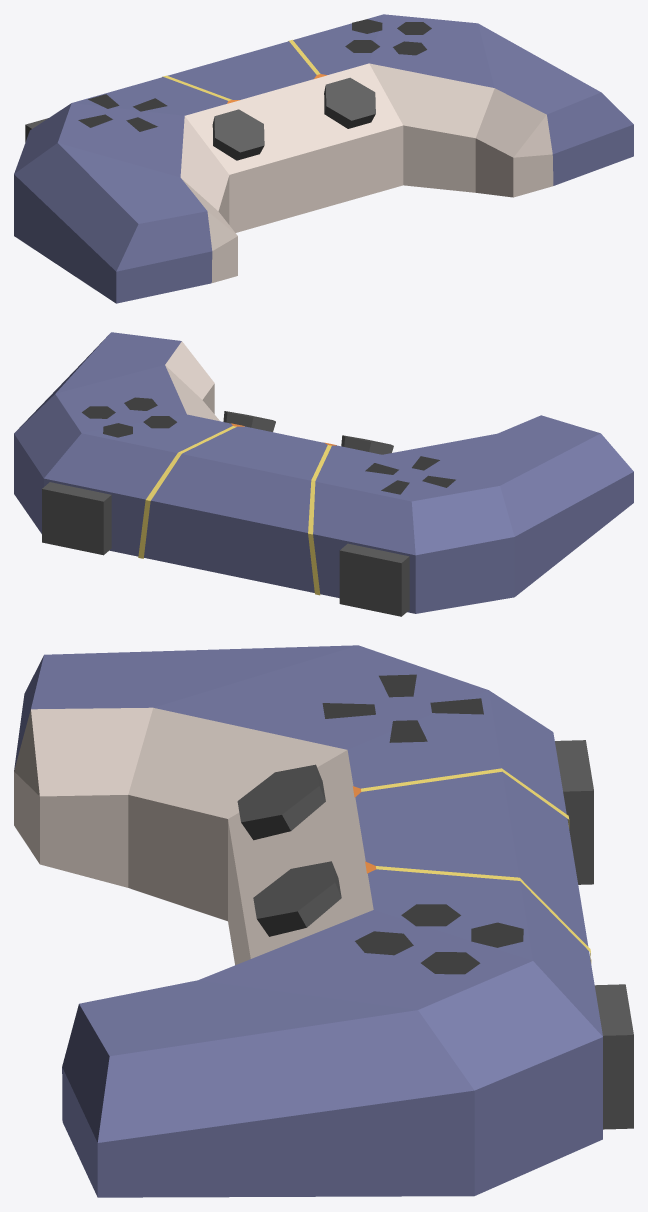
Rendered from Joystick.fbx.
3 views of the same model, one above another, from view 1: azimuth 30°, elevation 25°; view 2: azimuth 150°, elevation 25°; view 3: azimuth 270°, elevation 25° (orthographic). The views are drawn at different scales.
Parts seen in each view (by area): view 1: Joystick; view 2: Joystick; view 3: Joystick.
Part boxes in pixels (x1=…): Joystick: x1=14, y1=14, x2=633, y2=303; Joystick: x1=14, y1=332, x2=633, y2=616; Joystick: x1=14, y1=645, x2=633, y2=1197.
Size of the model in its own units: 22.73 by 13.26 by 3.96.
